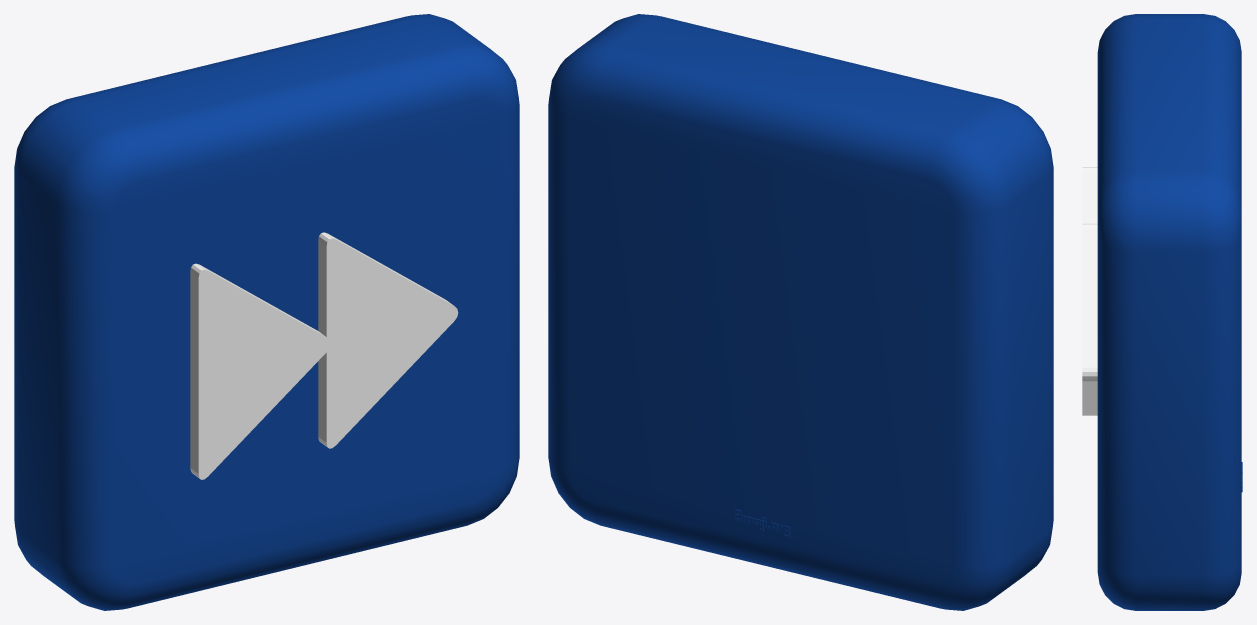
Rendered from fast_forward_button.glb.
3 renders of one model, left to right at view 1: azimuth 30°, elevation 25°; view 2: azimuth 150°, elevation 25°; view 3: azimuth 270°, elevation 25°, orthographic. The views are drawn at different scales.
Parts seen in each view (by area): view 1: Cube.6420; view 2: Cube.6420; view 3: Cube.6420.
Part boxes in pixels (bbox=[...]): Cube.6420: bbox=[14, 14, 519, 610]; Cube.6420: bbox=[548, 14, 1053, 610]; Cube.6420: bbox=[1082, 14, 1242, 610].
Bounding box in the file's own units: 2.2 × 2.2 × 0.7337.
1 material, 1 textured.
